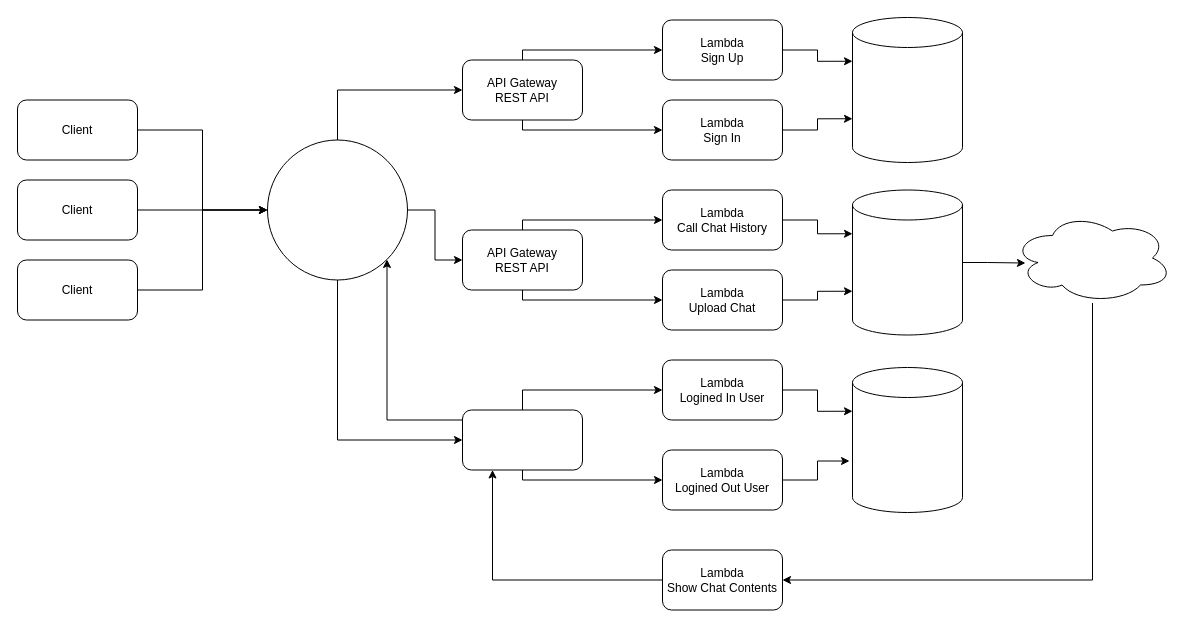
This 1190x628 diagram has some shape labels left out. The shapes that lost their labels are listed below. From the top down, each one's centre as x and y in pixels, then its label:
At point 907,89: "DynamoDB User".
At point 337,209: "Front-End JavaFx".
At point 907,262: "DynamoDB Chat Content".
At point 1092,257: "DynamoDB Stream".
At point 522,439: "API Gateway Websocket API".
At point 907,439: "DynamoDB Online User".
